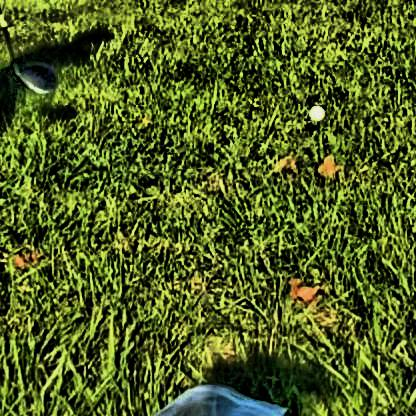golfball: (305, 102, 322, 119)
